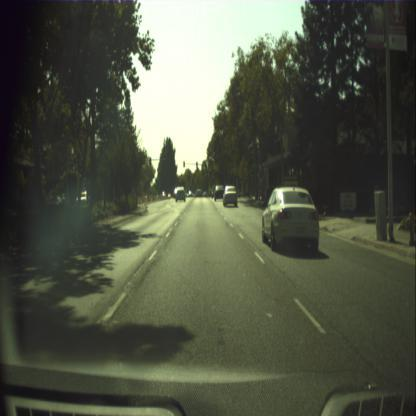off: (196, 161, 198, 168), (182, 160, 184, 166)
